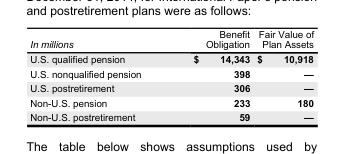table: (29, 28, 313, 122)
table column: (29, 28, 166, 122), (166, 28, 252, 122), (252, 28, 313, 122)
table column header: (29, 28, 313, 51)
table row: (29, 28, 313, 51), (29, 65, 313, 80), (29, 80, 313, 95), (29, 51, 313, 65), (29, 95, 313, 109), (29, 109, 313, 122)
